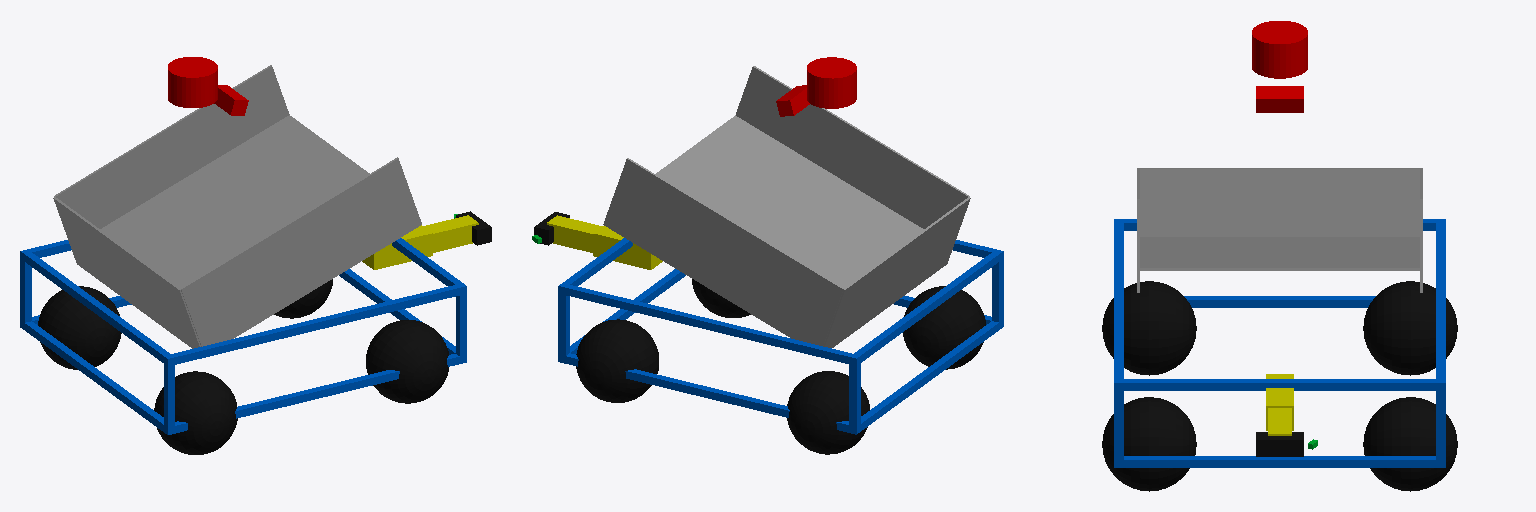
URDF robot description (wildbot):
<?xml version="1.0"?>
<robot name="wildbot">

  <!-- ================= BASE LINK ================= -->
  <!-- Body size: 310x270x110 mm -->
  <link name="car_base">
    <inertial>
      <origin xyz="0 0 0" rpy="0 0 0"/>
      <mass value="0.01"/>
      <inertia ixx="1e-6" ixy="0" ixz="0" iyy="1e-6" iyz="0" izz="1e-6"/>
    </inertial>
  </link>

  <!-- ================= SAFE BOX ================= -->
  <!-- Safe box size: 410x350x100 mm -->
  <link name="safe_box">
    <inertial>
      <origin xyz="0 0 0" rpy="0 0 0"/>
      <mass value="7.80"/>
      <inertia ixx="0.060" ixy="0" ixz="0" iyy="0.080" iyz="0" izz="0.100"/>
    </inertial>
    <visual>
      <origin xyz="0 0.170 0.045" rpy="0 0 0"/>
      <geometry>
        <box size="0.410 0.010 0.010"/>
      </geometry>
      <material name="blue">
        <color rgba="0.0 0.4 0.8 1.0"/>
      </material>
    </visual>
    <visual>
      <origin xyz="0 -0.170 0.045" rpy="0 0 0"/>
      <geometry>
        <box size="0.410 0.010 0.010"/>
      </geometry>
      <material name="blue"/>
    </visual>
    <visual>
      <origin xyz="0 0.170 -0.045" rpy="0 0 0"/>
      <geometry>
        <box size="0.410 0.010 0.010"/>
      </geometry>
      <material name="blue"/>
    </visual>
    <visual>
      <origin xyz="0 -0.170 -0.045" rpy="0 0 0"/>
      <geometry>
        <box size="0.410 0.010 0.010"/>
      </geometry>
      <material name="blue"/>
    </visual>
    <visual>
      <origin xyz="0.200 0 0.045" rpy="0 0 0"/>
      <geometry>
        <box size="0.010 0.350 0.010"/>
      </geometry>
      <material name="blue"/>
    </visual>
    <visual>
      <origin xyz="-0.200 0 0.045" rpy="0 0 0"/>
      <geometry>
        <box size="0.010 0.350 0.010"/>
      </geometry>
      <material name="blue"/>
    </visual>
    <visual>
      <origin xyz="0.200 0 -0.045" rpy="0 0 0"/>
      <geometry>
        <box size="0.010 0.350 0.010"/>
      </geometry>
      <material name="blue"/>
    </visual>
    <visual>
      <origin xyz="-0.200 0 -0.045" rpy="0 0 0"/>
      <geometry>
        <box size="0.010 0.350 0.010"/>
      </geometry>
      <material name="blue"/>
    </visual>
    <visual>
      <origin xyz="0.200 0.170 0" rpy="0 0 0"/>
      <geometry>
        <box size="0.010 0.010 0.100"/>
      </geometry>
      <material name="blue"/>
    </visual>
    <visual>
      <origin xyz="0.200 -0.170 0" rpy="0 0 0"/>
      <geometry>
        <box size="0.010 0.010 0.100"/>
      </geometry>
      <material name="blue"/>
    </visual>
    <visual>
      <origin xyz="-0.200 0.170 0" rpy="0 0 0"/>
      <geometry>
        <box size="0.010 0.010 0.100"/>
      </geometry>
      <material name="blue"/>
    </visual>
    <visual>
      <origin xyz="-0.200 -0.170 0" rpy="0 0 0"/>
      <geometry>
        <box size="0.010 0.010 0.100"/>
      </geometry>
      <material name="blue"/>
    </visual>
    <visual>
      <origin xyz="0 0 0.104" rpy="0 -0.3316 0"/>
      <geometry>
        <box size="0.315 0.300 0.003"/>
      </geometry>
      <material name="gray">
        <color rgba="0.6 0.6 0.6 1.0"/>
      </material>
    </visual>
    <!-- Rear wall (plane -X edge) -->
    <visual>
      <origin xyz="-0.157 0 0.076" rpy="0 -0.3316 0"/>
      <geometry>
        <box size="0.003 0.300 0.100"/>
      </geometry>
      <material name="gray"/>
    </visual>
    <!-- Left wall (plane +Y edge) -->
    <visual>
      <origin xyz="-0.008 0.150 0.128" rpy="0 -0.3316 0"/>
      <geometry>
        <box size="0.315 0.003 0.100"/>
      </geometry>
      <material name="gray"/>
    </visual>
    <!-- Right wall (plane -Y edge) -->
    <visual>
      <origin xyz="-0.008 -0.150 0.128" rpy="0 -0.3316 0"/>
      <geometry>
        <box size="0.315 0.003 0.100"/>
      </geometry>
      <material name="gray"/>
    </visual>
    <collision>
      <origin xyz="0 0 0" rpy="0 0 0"/>
      <geometry>
        <box size="0.410 0.350 0.100"/>
      </geometry>
    </collision>
    <collision>
      <origin xyz="0 0 0.104" rpy="0 -0.3316 0"/>
      <geometry>
        <box size="0.315 0.300 0.003"/>
      </geometry>
    </collision>
    <!-- Rear wall collision -->
    <collision>
      <origin xyz="-0.157 0 0.076" rpy="0 -0.3316 0"/>
      <geometry>
        <box size="0.003 0.300 0.100"/>
      </geometry>
    </collision>
    <!-- Left wall collision -->
    <collision>
      <origin xyz="-0.008 0.150 0.128" rpy="0 -0.3316 0"/>
      <geometry>
        <box size="0.315 0.003 0.100"/>
      </geometry>
    </collision>
    <!-- Right wall collision -->
    <collision>
      <origin xyz="-0.008 -0.150 0.128" rpy="0 -0.3316 0"/>
      <geometry>
        <box size="0.315 0.003 0.100"/>
      </geometry>
    </collision>
  </link>

  <joint name="car_base_to_safe_box" type="fixed">
    <parent link="car_base"/>
    <child link="safe_box"/>
    <!-- Position: 210, 175, 100 -->
    <origin xyz="0.0 0.0 0.100" rpy="0 0 0"/>
  </joint>

  <!-- ================= WHEELS ================= -->
  <!-- Wheel radius: 50mm, thickness: 46mm -->
  <material name="black">
    <color rgba="0.1 0.1 0.1 1.0"/>
  </material>

  <!-- Front Left Wheel -->
  <link name="fl_wheel">
    <inertial>
      <origin xyz="0 0 0" rpy="0 0 0"/>
      <mass value="0.45"/>
      <inertia ixx="0.00036" ixy="0" ixz="0" iyy="0.00056" iyz="0" izz="0.00036"/>
    </inertial>
    <visual>
      <origin xyz="0 0 0" rpy="1.5708 0 0"/>
      <geometry>
        <sphere radius="0.050"/>
      </geometry>
      <material name="black"/>
    </visual>
    <collision>
      <origin xyz="0 0 0" rpy="1.5708 0 0"/>
      <geometry>
        <sphere radius="0.050"/>
      </geometry>
    </collision>
  </link>

  <joint name="safe_box_to_fl_wheel" type="continuous">
    <parent link="safe_box"/>
    <child link="fl_wheel"/>
    <!-- Position: 145, 138, -50 -->
    <origin xyz="0.145 0.138 -0.050" rpy="0 0 0"/>
    <axis xyz="0 1 0"/>
  </joint>

  <!-- Front Right Wheel -->
  <link name="fr_wheel">
    <inertial>
      <origin xyz="0 0 0" rpy="0 0 0"/>
      <mass value="0.45"/>
      <inertia ixx="0.00036" ixy="0" ixz="0" iyy="0.00056" iyz="0" izz="0.00036"/>
    </inertial>
    <visual>
      <origin xyz="0 0 0" rpy="1.5708 0 0"/>
      <geometry>
        <sphere radius="0.050"/>
      </geometry>
      <material name="black"/>
    </visual>
    <collision>
      <origin xyz="0 0 0" rpy="1.5708 0 0"/>
      <geometry>
        <sphere radius="0.050"/>
      </geometry>
    </collision>
  </link>

  <joint name="safe_box_to_fr_wheel" type="continuous">
    <parent link="safe_box"/>
    <child link="fr_wheel"/>
    <!-- Position: 145, -138, -50 -->
    <origin xyz="0.145 -0.138 -0.050" rpy="0 0 0"/>
    <axis xyz="0 1 0"/>
  </joint>

  <!-- Rear Left Wheel -->
  <link name="rl_wheel">
    <inertial>
      <origin xyz="0 0 0" rpy="0 0 0"/>
      <mass value="0.45"/>
      <inertia ixx="0.00036" ixy="0" ixz="0" iyy="0.00056" iyz="0" izz="0.00036"/>
    </inertial>
    <visual>
      <origin xyz="0 0 0" rpy="1.5708 0 0"/>
      <geometry>
        <sphere radius="0.050"/>
      </geometry>
      <material name="black"/>
    </visual>
    <collision>
      <origin xyz="0 0 0" rpy="1.5708 0 0"/>
      <geometry>
        <sphere radius="0.050"/>
      </geometry>
    </collision>
  </link>

  <joint name="safe_box_to_rl_wheel" type="continuous">
    <parent link="safe_box"/>
    <child link="rl_wheel"/>
    <!-- Position: -145, 138, -50 -->
    <origin xyz="-0.145 0.138 -0.050" rpy="0 0 0"/>
    <axis xyz="0 1 0"/>
  </joint>

  <!-- Rear Right Wheel -->
  <link name="rr_wheel">
    <inertial>
      <origin xyz="0 0 0" rpy="0 0 0"/>
      <mass value="0.45"/>
      <inertia ixx="0.00036" ixy="0" ixz="0" iyy="0.00056" iyz="0" izz="0.00036"/>
    </inertial>
    <visual>
      <origin xyz="0 0 0" rpy="1.5708 0 0"/>
      <geometry>
        <sphere radius="0.050"/>
      </geometry>
      <material name="black"/>
    </visual>
    <collision>
      <origin xyz="0 0 0" rpy="1.5708 0 0"/>
      <geometry>
        <sphere radius="0.050"/>
      </geometry>
    </collision>
  </link>

  <joint name="safe_box_to_rr_wheel" type="continuous">
    <parent link="safe_box"/>
    <child link="rr_wheel"/>
    <!-- Position: -145, -138, -50 -->
    <origin xyz="-0.145 -0.138 -0.050" rpy="0 0 0"/>
    <axis xyz="0 1 0"/>
  </joint>

  <!-- ================= SENSORS ================= -->
  <!-- Camera -->
  <link name="camera">
    <inertial>
      <origin xyz="0 0 0" rpy="0 0 0"/>
      <mass value="0.02"/>
      <inertia ixx="1.9e-5" ixy="0" ixz="0" iyy="5e-6" iyz="0" izz="1.9e-5"/>
    </inertial>
    <visual>
      <geometry>
        <box size="0.02 0.05 0.02"/>
      </geometry>
      <material name="red">
        <color rgba="0.8 0.0 0.0 1.0"/>
      </material>
    </visual>
    <collision>
      <geometry>
        <box size="0.02 0.05 0.02"/>
      </geometry>
    </collision>
  </link>

  <link name="camera_link">
    <inertial>
      <origin xyz="0 0 0" rpy="0 0 0"/>
      <mass value="0.005"/>
      <inertia ixx="1e-6" ixy="0" ixz="0" iyy="1e-6" iyz="0" izz="1e-6"/>
    </inertial>
    <visual>
      <origin xyz="0 0 0" rpy="0 0 0"/>
      <geometry>
        <box size="0.01 0.01 0.01"/>
      </geometry>
      <material name="gray"/>
    </visual>
  </link>

  <joint name="safe_box_to_camera_link" type="fixed">
    <parent link="safe_box"/>
    <child link="camera_link"/>
    <!-- Position: 105, 0, 155 -->
    <origin xyz="-0.02 0.0 0.275" rpy="0 0.28 0"/>
  </joint>

  <joint name="camera_link_to_camera" type="fixed">
    <parent link="camera_link"/>
    <child link="camera"/>
    <origin xyz="0 0 0" rpy="0 0 0"/>
  </joint>

  <!-- Lidar -->
  <link name="lidar">
    <inertial>
      <origin xyz="0 0 0" rpy="0 0 0"/>
      <mass value="0.02"/>
      <inertia ixx="2.2e-5" ixy="0" ixz="0" iyy="2.2e-5" iyz="0" izz="5.4e-5"/>
    </inertial>
    <visual>
      <geometry>
        <cylinder radius="0.03" length="0.04"/>
      </geometry>
      <material name="red"/>
    </visual>
    <collision>
      <geometry>
        <cylinder radius="0.03" length="0.04"/>
      </geometry>
    </collision>
  </link>

  <joint name="safe_box_to_lidar" type="fixed">
    <parent link="safe_box"/>
    <child link="lidar"/>
    <!-- Position: 50, 0, 190 -->
    <origin xyz="-0.070 0.0 0.310" rpy="0 0 0"/>
  </joint>

  <!-- ================= ARM & GRIPPER ================= -->
  <!-- Arm Link 1 (Length: 80mm) -->
  <link name="arm1_link">
    <inertial>
      <origin xyz="0.040 0 0" rpy="0 0 0"/>
      <mass value="0.06"/>
      <inertia ixx="8e-6" ixy="0" ixz="0" iyy="4.9e-5" iyz="0" izz="4.9e-5"/>
    </inertial>
    <visual>
      <origin xyz="0.040 0 0" rpy="0 0 0"/>
      <geometry>
        <box size="0.080 0.03 0.03"/>
      </geometry>
      <material name="yellow">
        <color rgba="0.8 0.8 0.0 1.0"/>
      </material>
    </visual>
    <collision>
      <origin xyz="0.040 0 0" rpy="0 0 0"/>
      <geometry>
        <box size="0.080 0.03 0.03"/>
      </geometry>
    </collision>
  </link>

  <joint name="safe_box_to_arm1_joint" type="revolute">
    <parent link="safe_box"/>
    <child link="arm1_link"/>
    <!-- Position: 170, 0, 26 -->
    <origin xyz="0.170 0.0 0.029" rpy="0 0 0"/>
    <axis xyz="0 1 0"/>
    <limit lower="-1.5708" upper="1.5708" effort="10.0" velocity="1.0"/>
  </joint>

  <!-- Arm Link 2 (Length: 65mm) -->
  <link name="arm2_link">
    <inertial>
      <origin xyz="0.0325 0 0" rpy="0 0 0"/>
      <mass value="0.06"/>
      <inertia ixx="4.7e-6" ixy="0" ixz="0" iyy="2.4e-5" iyz="0" izz="2.4e-5"/>
    </inertial>
    <visual>
      <origin xyz="0.0325 0 0" rpy="0 0 0"/>
      <geometry>
        <box size="0.065 0.025 0.025"/>
      </geometry>
      <material name="yellow"/>
    </visual>
    <collision>
      <origin xyz="0.0325 0 0" rpy="0 0 0"/>
      <geometry>
        <box size="0.065 0.025 0.025"/>
      </geometry>
    </collision>
  </link>

  <joint name="arm1_to_arm2_joint" type="revolute">
    <parent link="arm1_link"/>
    <child link="arm2_link"/>
    <!-- Position: 80, 0, 0 -->
    <origin xyz="0.080 0.0 0.0" rpy="0 0 0"/>
    <axis xyz="0 1 0"/>
    <limit lower="-1.5708" upper="1.5708" effort="10.0" velocity="1.0"/>
  </joint>

  <!-- Finger Base -->
  <link name="finger_base">
    <inertial>
      <origin xyz="0 0 0" rpy="0 0 0"/>
      <mass value="0.03"/>
      <inertia ixx="7.3e-6" ixy="0" ixz="0" iyy="2.0e-6" iyz="0" izz="7.3e-6"/>
    </inertial>
    <visual>
      <geometry>
        <box size="0.02 0.05 0.02"/>
      </geometry>
      <material name="black"/>
    </visual>
    <collision>
      <geometry>
        <box size="0.02 0.05 0.02"/>
      </geometry>
    </collision>
  </link>

  <joint name="arm2_to_finger" type="fixed">
    <parent link="arm2_link"/>
    <child link="finger_base"/>
    <!-- Position: 65, 0, 0 -->
    <origin xyz="0.065 0.0 0.0" rpy="0 0 0"/>
  </joint>

  <!-- IR Distance Sensor (mounted on left side of finger base) -->
  <link name="ir_side_sensor">
    <inertial>
      <origin xyz="0 0 0" rpy="0 0 0"/>
      <mass value="0.005"/>
      <inertia ixx="5.0e-7" ixy="0" ixz="0" iyy="5.0e-7" iyz="0" izz="5.0e-7"/>
    </inertial>
    <visual>
      <geometry>
        <box size="0.012 0.006 0.006"/>
      </geometry>
      <material name="green">
        <color rgba="0.0 0.7 0.2 1.0"/>
      </material>
    </visual>
    <collision>
      <geometry>
        <box size="0.012 0.006 0.006"/>
      </geometry>
    </collision>
  </link>

  <joint name="finger_base_to_ir_side_sensor" type="fixed">
    <parent link="finger_base"/>
    <child link="ir_side_sensor"/>
    <!-- Position: 0, +28, 0 (just outside finger_base side), facing +Y -->
    <origin xyz="0.0 0.035 0.0" rpy="0 0 -0.5"/>
  </joint>

  <!-- Finger Left (Height: 65mm) -->
  <link name="finger_left">
    <inertial>
      <origin xyz="0 0 -0.0325" rpy="0 0 0"/>
      <mass value="0.01"/>
      <inertia ixx="1.0e-6" ixy="0" ixz="0" iyy="1.0e-6" iyz="0" izz="1.0e-6"/>
    </inertial>
    <visual>
      <origin xyz="0 0 -0.0325" rpy="1.5708 0 1.5708"/>
      <geometry>
        <mesh filename="mesh/finger_left.stl" scale="0.001 0.001 0.001"/>
      </geometry>
      <material name="gray"/>
    </visual>
    <collision>
      <origin xyz="0 0 -0.0325" rpy="1.5708 0 1.5708"/>
      <geometry>
        <mesh filename="mesh/finger_left.stl" scale="0.001 0.001 0.001"/>
      </geometry>
    </collision>
  </link>

  <joint name="finger_base_to_finger_left" type="revolute">
    <parent link="finger_base"/>
    <child link="finger_left"/>
    <!-- Position: 0, 14, 0 (Finger Dis is 28, so +/- 14) -->
    <origin xyz="0.0 0.014 0.0" rpy="0 0 0"/>
    <axis xyz="0 0 1"/>
    <limit lower="-0.7854" upper="0.7854" effort="2.0" velocity="1.0"/>
  </joint>

  <!-- Finger Right (Height: 65mm) -->
  <link name="finger_right">
    <inertial>
      <origin xyz="0 0 -0.0325" rpy="0 0 0"/>
      <mass value="0.01"/>
      <inertia ixx="1.0e-6" ixy="0" ixz="0" iyy="1.0e-6" iyz="0" izz="1.0e-6"/>
    </inertial>
    <visual>
      <origin xyz="0 0 -0.0325" rpy="1.5708 0 1.5708"/>
      <geometry>
        <mesh filename="mesh/finger_right.stl" scale="0.001 0.001 0.001"/>
      </geometry>
      <material name="gray"/>
    </visual>
    <collision>
      <origin xyz="0 0 -0.0325" rpy="1.5708 0 1.5708"/>
      <geometry>
        <mesh filename="mesh/finger_right.stl" scale="0.001 0.001 0.001"/>
      </geometry>
    </collision>
  </link>

  <joint name="finger_base_to_finger_right" type="revolute">
    <parent link="finger_base"/>
    <child link="finger_right"/>
    <!-- Position: 0, -14, 0 -->
    <origin xyz="0.0 -0.014 0.0" rpy="0 0 0"/>
    <axis xyz="0 0 1"/>
    <limit lower="-0.7854" upper="0.7854" effort="2.0" velocity="1.0"/>
  </joint>

</robot>

--- Render facts (derived) ---
3 views of the same robot in one strip: view 1: azimuth 30°, elevation 25°; view 2: azimuth 150°, elevation 25°; view 3: azimuth 270°, elevation 25° (orthographic).
Model wildbot with 15 links and 14 joints (4 revolute, 4 continuous, 6 fixed), rooted at car_base, posed all joints at 0.
Visible links, largest first — view 1: safe_box, fr_wheel, rr_wheel, rl_wheel, lidar, arm1_link, arm2_link, fl_wheel, camera; view 2: safe_box, fl_wheel, rl_wheel, rr_wheel, lidar, arm1_link, arm2_link, fr_wheel, camera; view 3: safe_box, rl_wheel, rr_wheel, fl_wheel, fr_wheel, lidar, camera, finger_base, arm1_link, arm2_link.
Boxes of the visible links, x1,y1,x2,y2 form: safe_box: [20, 65, 466, 434]; fr_wheel: [366, 320, 448, 403]; rr_wheel: [154, 371, 237, 454]; rl_wheel: [38, 286, 121, 369]; lidar: [168, 57, 217, 107]; arm1_link: [362, 225, 432, 269]; arm2_link: [423, 215, 478, 252]; fl_wheel: [274, 279, 332, 318]; camera: [214, 85, 248, 115]; safe_box: [558, 66, 1003, 434]; fl_wheel: [576, 319, 658, 402]; rl_wheel: [787, 371, 869, 454]; rr_wheel: [903, 286, 985, 369]; lidar: [807, 57, 856, 108]; arm1_link: [593, 226, 662, 269]; arm2_link: [547, 215, 601, 252]; fr_wheel: [692, 279, 750, 317]; camera: [776, 85, 809, 116]; safe_box: [1114, 168, 1445, 467]; rl_wheel: [1363, 281, 1457, 375]; rr_wheel: [1102, 281, 1196, 375]; fl_wheel: [1363, 397, 1457, 491]; fr_wheel: [1102, 397, 1196, 491]; lidar: [1252, 21, 1307, 78]; camera: [1256, 86, 1303, 112]; finger_base: [1256, 432, 1303, 456]; arm1_link: [1266, 374, 1293, 430]; arm2_link: [1268, 408, 1291, 435].
Size in the robot's own frame: 0.53 by 0.376 by 0.43 metres.
Meshes: 2 distinct files referenced, 0 mesh visuals loaded (none loaded); not drawn: 2 (reference not matched to a file when rendering).
